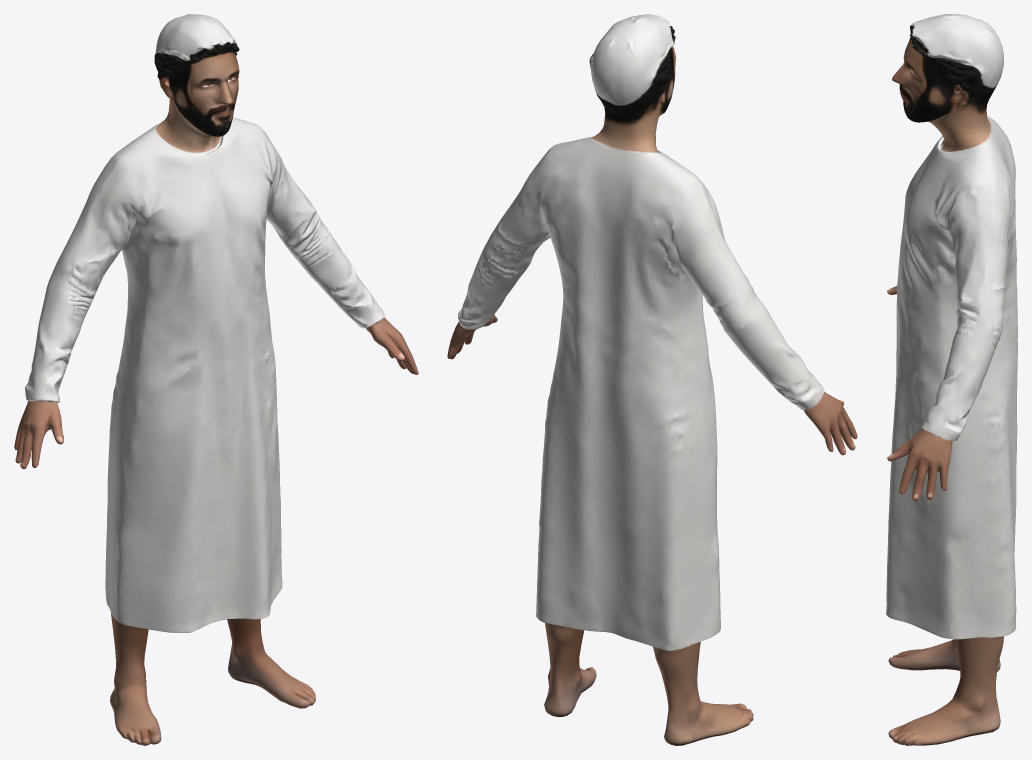
File: levi_2.glb
The picture shows the model from 3 angles, left to right: view 1: azimuth 30°, elevation 25°; view 2: azimuth 150°, elevation 25°; view 3: azimuth 270°, elevation 25°; orthographic projection.
Parts seen in each view (by area): view 1: Mesh; view 2: Mesh; view 3: Mesh.
Boxes of the visible parts, x1=… form: Mesh: x1=14, y1=14, x2=418, y2=745; Mesh: x1=447, y1=14, x2=857, y2=745; Mesh: x1=886, y1=14, x2=1017, y2=745.
Bounding box in the file's own units: 1.14 × 1.9 × 0.3309.
1 material, 1 textured.
